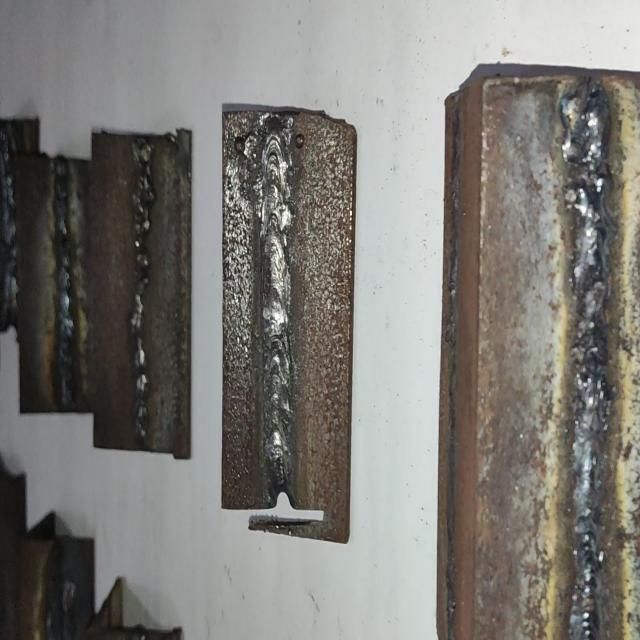Good Weld: (564, 92, 617, 640), (267, 132, 289, 482), (130, 143, 150, 443), (55, 169, 74, 409)
